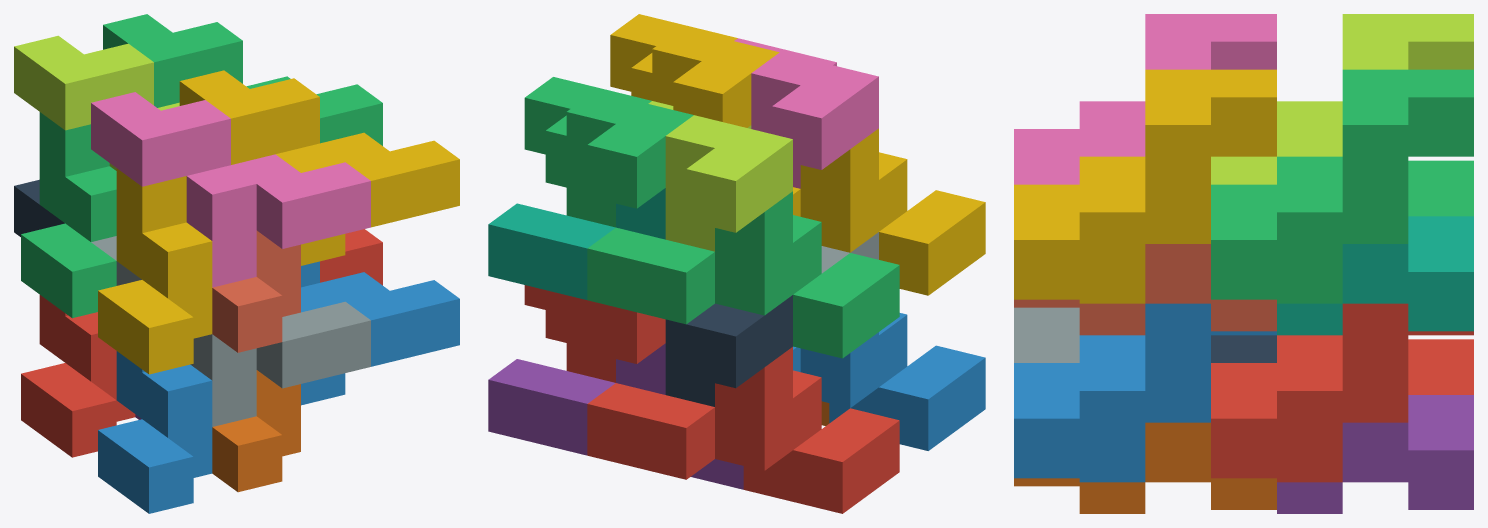
The model's file is tiling.obj.
The picture shows the model from 3 angles, left to right: view 1: azimuth 30°, elevation 25°; view 2: azimuth 150°, elevation 25°; view 3: azimuth 270°, elevation 25°; orthographic projection. The views are drawn at different scales.
Parts seen in each view (by area): view 1: copy_2_domain_4, copy_2_domain_8, copy_1_domain_4, copy_1_domain_3, copy_1_domain_2, copy_2_domain_2, copy_1_domain_1, copy_2_domain_7, copy_2_domain_6, copy_2_domain_3, copy_1_domain_6, copy_1_domain_8 (+2 smaller); view 2: copy_1_domain_1, copy_1_domain_3, copy_1_domain_4, copy_2_domain_7, copy_1_domain_2, copy_2_domain_3, copy_2_domain_8, copy_2_domain_4, copy_1_domain_5, copy_1_domain_7, copy_2_domain_1, copy_2_domain_5 (+1 smaller); view 3: copy_2_domain_7, copy_2_domain_8, copy_2_domain_5, copy_2_domain_6, copy_2_domain_4, copy_1_domain_7, copy_1_domain_5, copy_2_domain_3, copy_1_domain_8, copy_1_domain_6, copy_1_domain_3, copy_1_domain_1 (+2 smaller).
Boxes of the visible parts, x1,y1,x2,y2 form: copy_2_domain_4: (91, 92, 370, 287); copy_2_domain_8: (179, 70, 459, 265); copy_1_domain_4: (98, 168, 212, 374); copy_1_domain_3: (21, 112, 116, 318); copy_1_domain_2: (98, 351, 212, 513); copy_2_domain_2: (91, 236, 370, 426); copy_1_domain_1: (21, 295, 135, 457); copy_2_domain_7: (103, 14, 382, 145); copy_2_domain_6: (301, 261, 459, 405); copy_2_domain_3: (14, 35, 179, 170); copy_1_domain_6: (212, 370, 300, 492); copy_1_domain_8: (212, 230, 300, 352); copy_1_domain_1: (587, 347, 899, 513); copy_1_domain_3: (587, 191, 899, 358); copy_1_domain_4: (793, 128, 985, 295); copy_2_domain_7: (524, 77, 693, 227); copy_1_domain_2: (793, 313, 985, 450); copy_2_domain_3: (648, 101, 792, 251); copy_2_domain_8: (610, 14, 779, 127); copy_2_domain_4: (734, 38, 878, 188); copy_1_domain_5: (488, 343, 743, 489); copy_1_domain_7: (488, 188, 665, 299); copy_2_domain_1: (665, 295, 792, 406); copy_2_domain_5: (524, 285, 665, 382); copy_2_domain_7: (1211, 69, 1473, 303); copy_2_domain_8: (1014, 69, 1276, 303); copy_2_domain_5: (1211, 303, 1473, 482); copy_2_domain_6: (1014, 303, 1276, 482); copy_2_domain_4: (1014, 14, 1276, 184); copy_1_domain_7: (1277, 216, 1473, 335); copy_1_domain_5: (1277, 395, 1473, 513); copy_2_domain_3: (1211, 14, 1473, 184); copy_1_domain_8: (1014, 244, 1276, 335); copy_1_domain_6: (1014, 422, 1276, 513); copy_1_domain_3: (1408, 160, 1473, 216); copy_1_domain_1: (1408, 339, 1473, 394).
Size of the model in its own units: 7 by 7 by 7.
